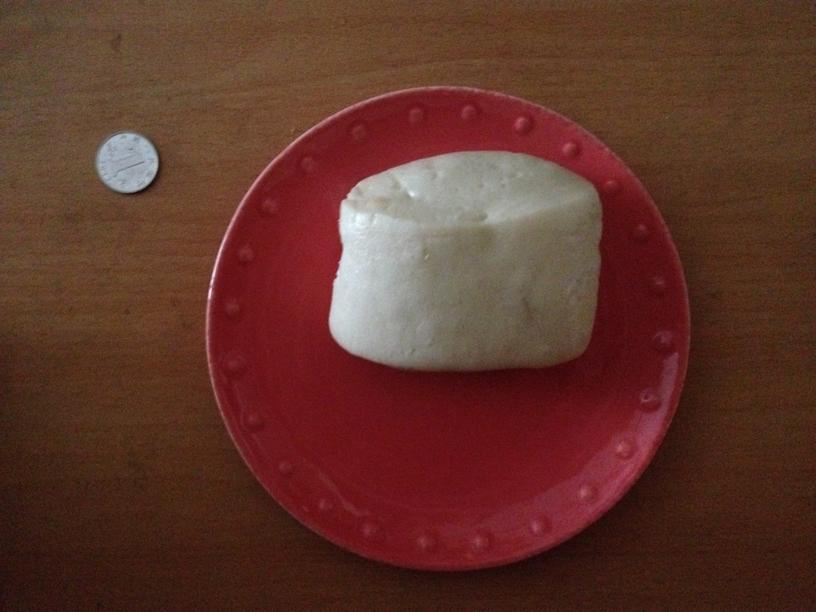bun: (328, 149, 599, 367)
coin: (93, 131, 158, 194)
